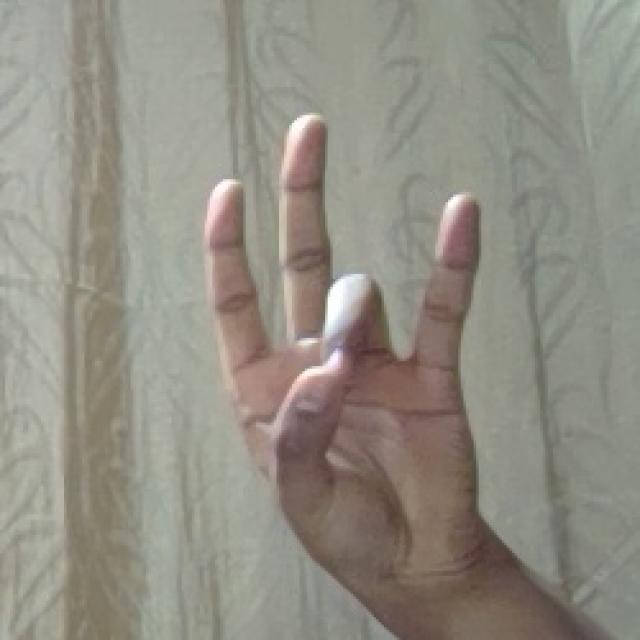Numeric-7: (193, 103, 488, 592)
